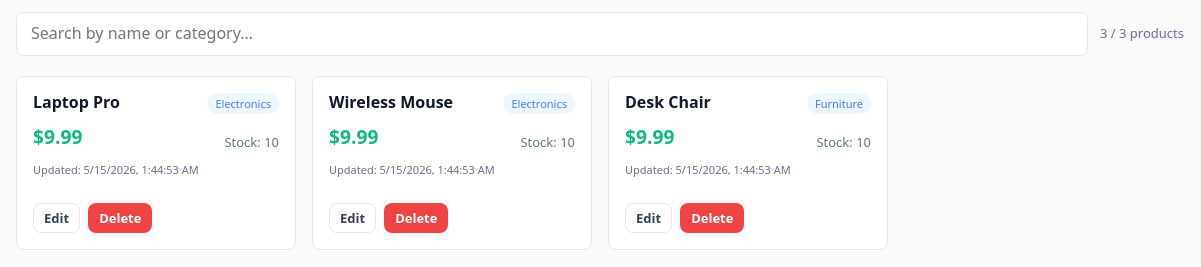
Test: ProductList › filters products by category when searching
Type "furniture" into the search field.
click(552, 34); type("furniture")  # box [16, 12, 1088, 56]
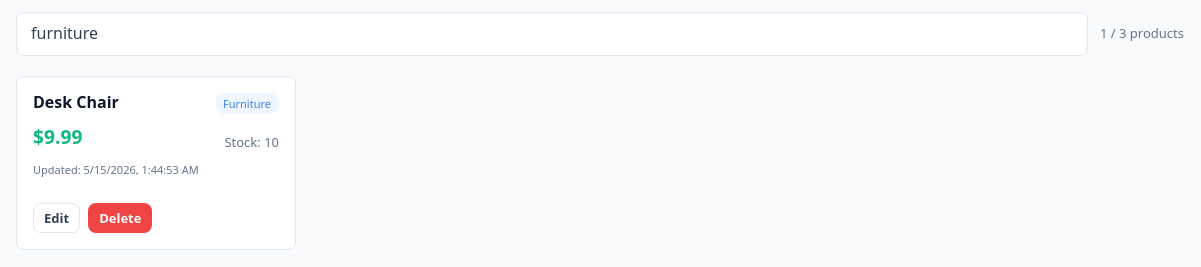
Expected: the heading "Desk Chair" is shown, [33, 93, 119, 112]
Expected: the heading "Laptop Pro" is gone
